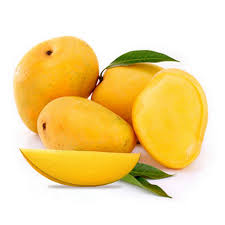mango: (134, 67, 211, 171), (15, 143, 149, 193), (28, 98, 137, 151), (12, 34, 97, 96)
